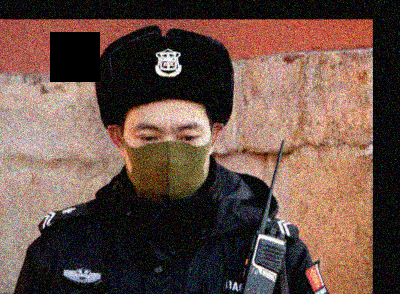with_mask: (124, 119, 213, 201)
